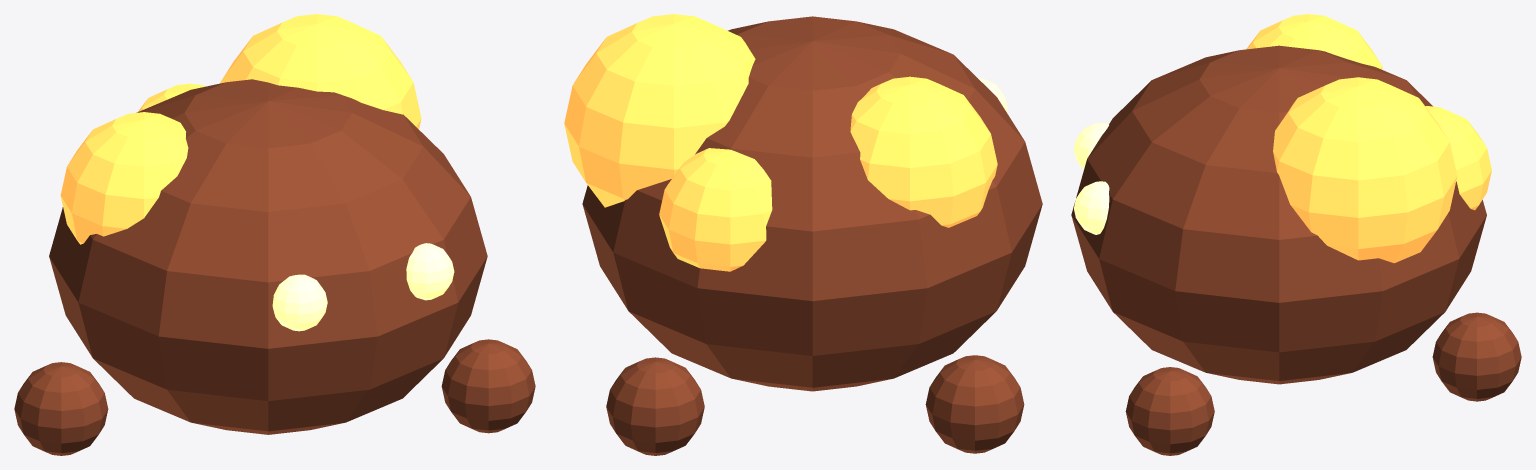
Rendered from creature_blob_lava.glb.
3 renders of one model, left to right at view 1: azimuth 30°, elevation 25°; view 2: azimuth 150°, elevation 25°; view 3: azimuth 270°, elevation 25°, orthographic. The views are drawn at different scales.
Visible parts, largest first — view 1: creature_blob_lava; view 2: creature_blob_lava; view 3: creature_blob_lava.
Boxes of the visible parts, x1,y1,x2,y2 form: creature_blob_lava: (14,14,535,455); creature_blob_lava: (564,14,1042,455); creature_blob_lava: (1071,14,1521,455).
Bounding box in the file's own units: 1.27 × 1 × 1.23.
